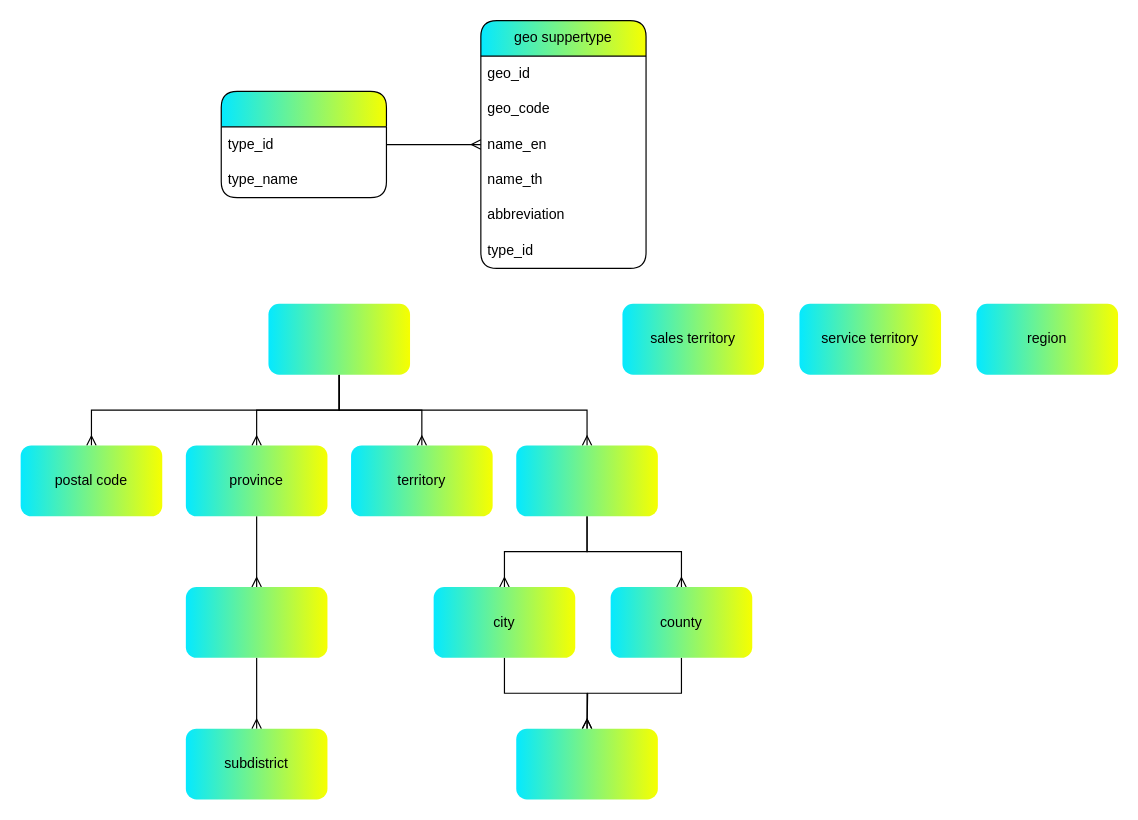
Image size: 1138x820. Some labels were removed from this diagram. The shapes that lost their labels are listed below. From the top down, each one's box as (x1, y1, x2, y2) in pixels, then its label:
(220, 90, 386, 198): geo type
(268, 303, 409, 374): country
(516, 445, 657, 516): state
(185, 586, 327, 657): district
(516, 728, 657, 799): county city
